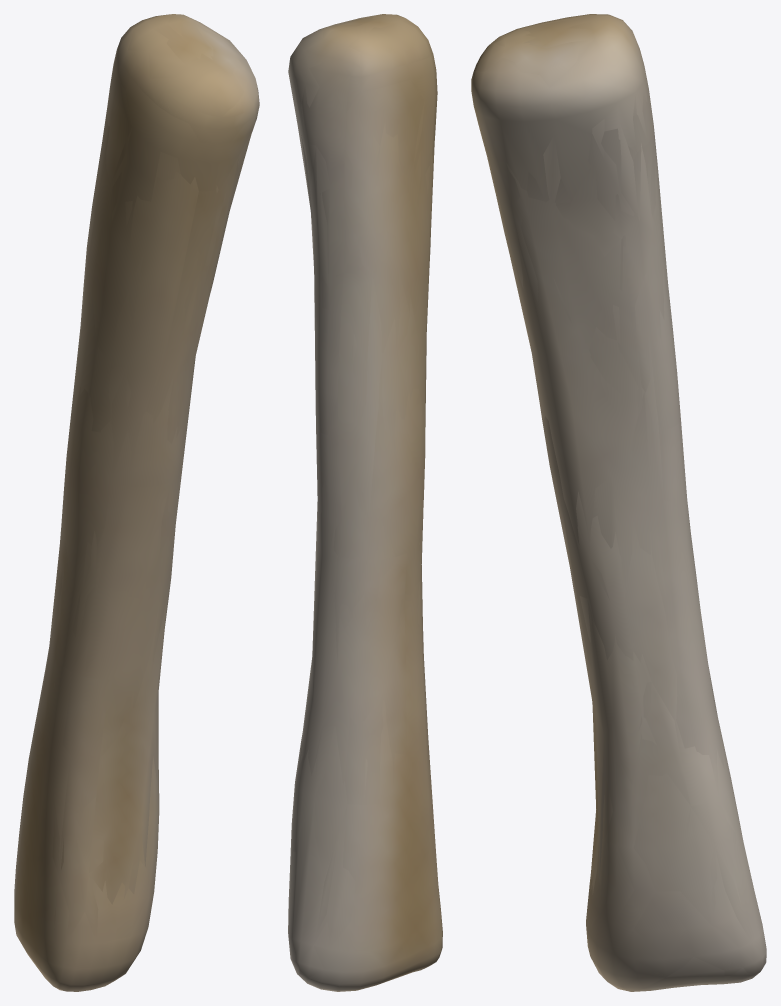
The model's file is R metacarpi secundum.fbx.
3 renders of one model, left to right at view 1: azimuth 30°, elevation 25°; view 2: azimuth 150°, elevation 25°; view 3: azimuth 270°, elevation 25°, orthographic. The views are drawn at different scales.
Visible parts, largest first — view 1: R metacarpi secundum high, R metacarpi secundum, R metacarpi secundum low; view 2: R metacarpi secundum high, R metacarpi secundum, R metacarpi secundum low; view 3: R metacarpi secundum, R metacarpi secundum high, R metacarpi secundum low.
Part boxes in pixels (x1,y1,x2,y2): R metacarpi secundum high: [14, 14, 259, 991]; R metacarpi secundum: [14, 14, 259, 991]; R metacarpi secundum low: [44, 160, 239, 904]; R metacarpi secundum high: [288, 14, 442, 991]; R metacarpi secundum: [288, 14, 442, 991]; R metacarpi secundum low: [298, 128, 434, 931]; R metacarpi secundum: [471, 14, 766, 991]; R metacarpi secundum high: [471, 14, 766, 991]; R metacarpi secundum low: [485, 119, 724, 894].
Bounding box in the file's own units: 1.1 × 5.97 × 1.61.
